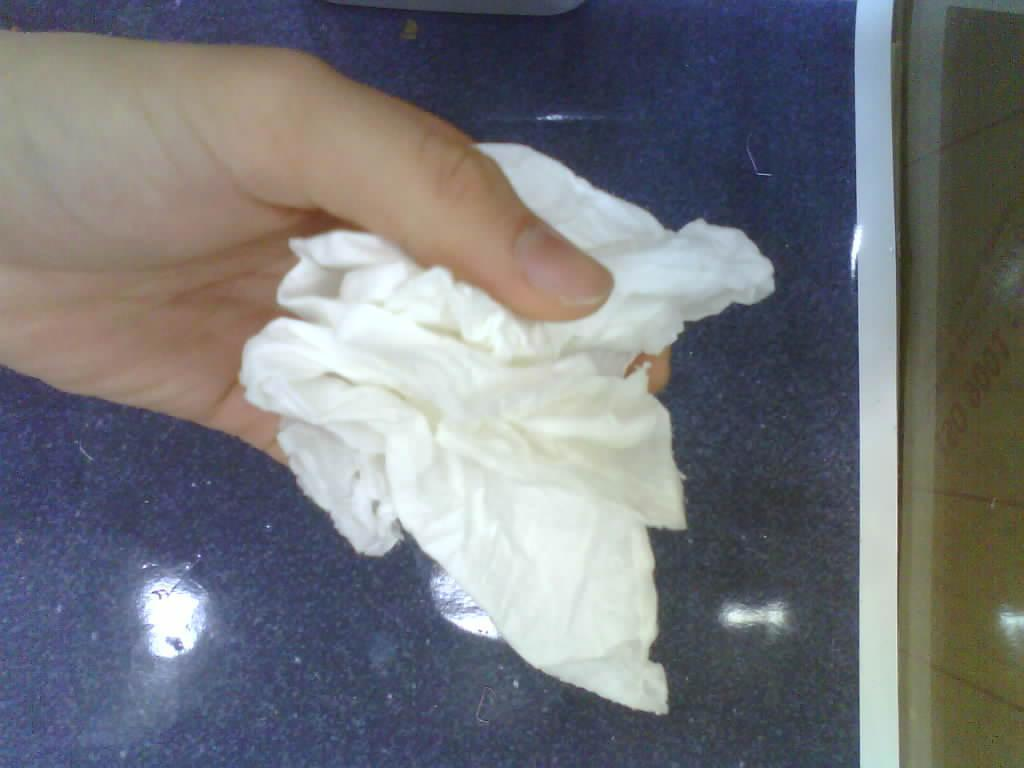paper: (240, 144, 774, 714)
